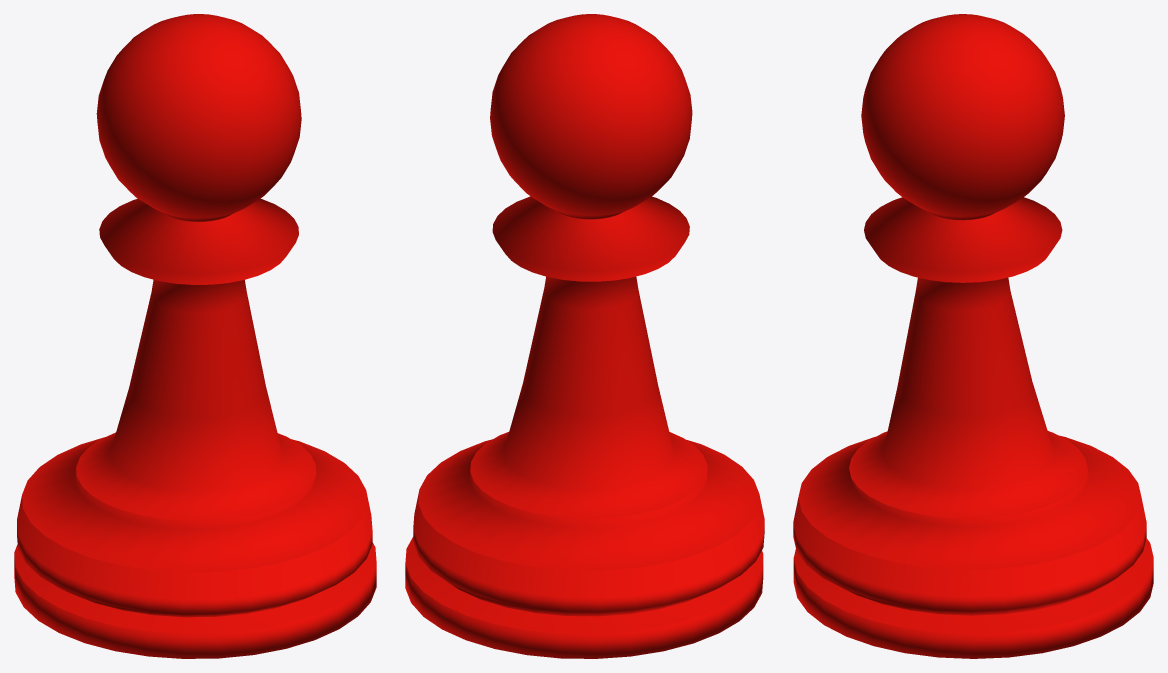
File: pawn2.fbx
3 views of the same model, side by side, from view 1: azimuth 30°, elevation 25°; view 2: azimuth 150°, elevation 25°; view 3: azimuth 270°, elevation 25° (orthographic).
Parts seen in each view (by area): view 1: Sphere; view 2: Sphere; view 3: Sphere.
Part boxes in pixels (x1,y1,x2,y2): Sphere: [14, 14, 376, 658]; Sphere: [405, 14, 764, 658]; Sphere: [793, 14, 1153, 658].
Bounding box in the file's own units: 283 × 484 × 283.
